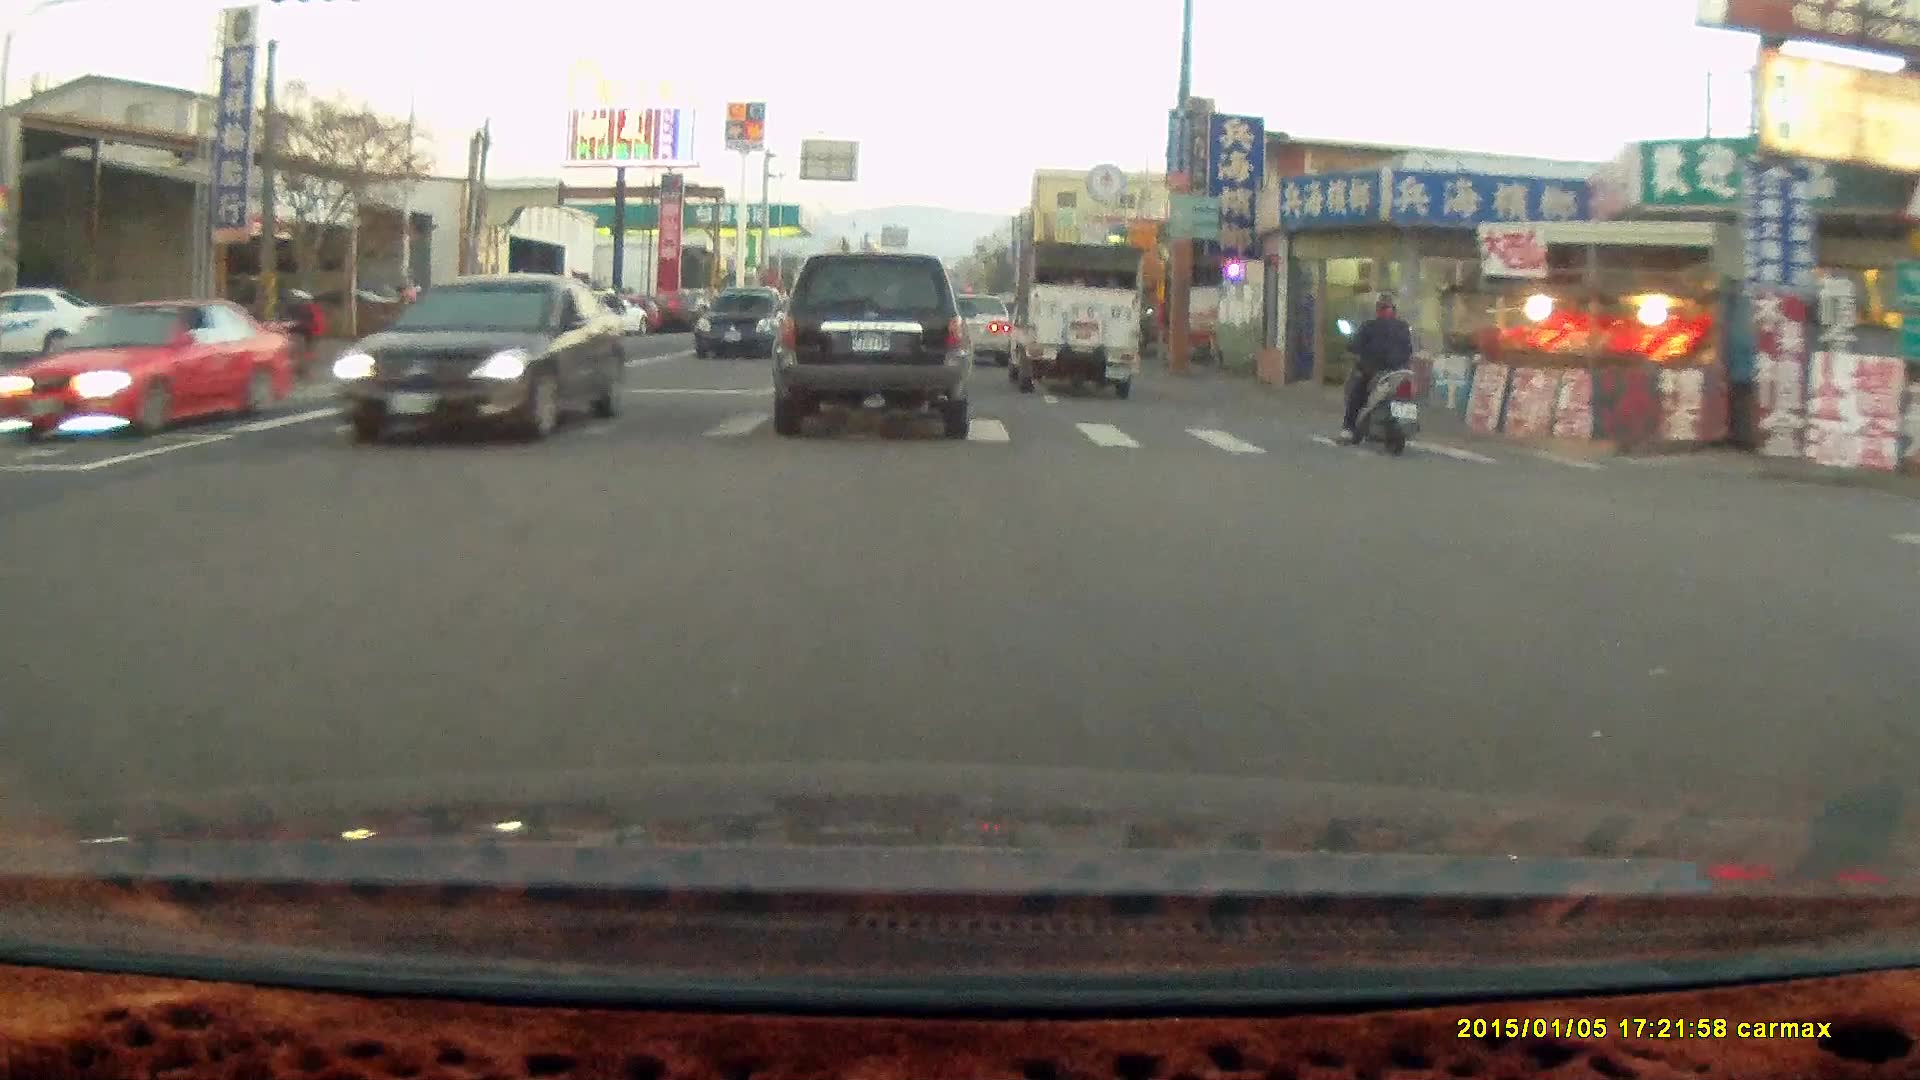rider: (1331, 289, 1422, 455), (259, 282, 319, 382)
vehicle: (334, 276, 628, 445), (769, 256, 977, 446), (8, 301, 290, 440), (1005, 238, 1144, 400), (1, 288, 131, 368), (694, 285, 790, 359), (934, 291, 1012, 365), (951, 287, 1023, 363)
